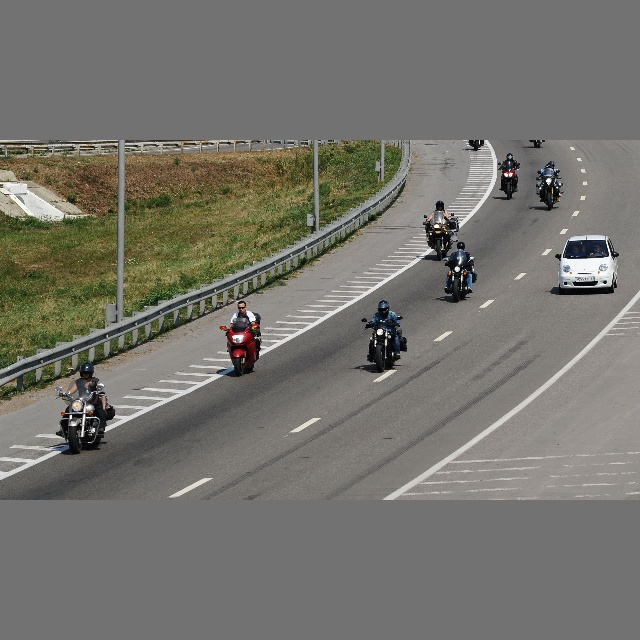Мотоцикл: (58, 361, 113, 453), (222, 301, 262, 376), (365, 300, 402, 372), (445, 240, 477, 300), (424, 199, 458, 254), (535, 161, 563, 213), (500, 152, 521, 200)
